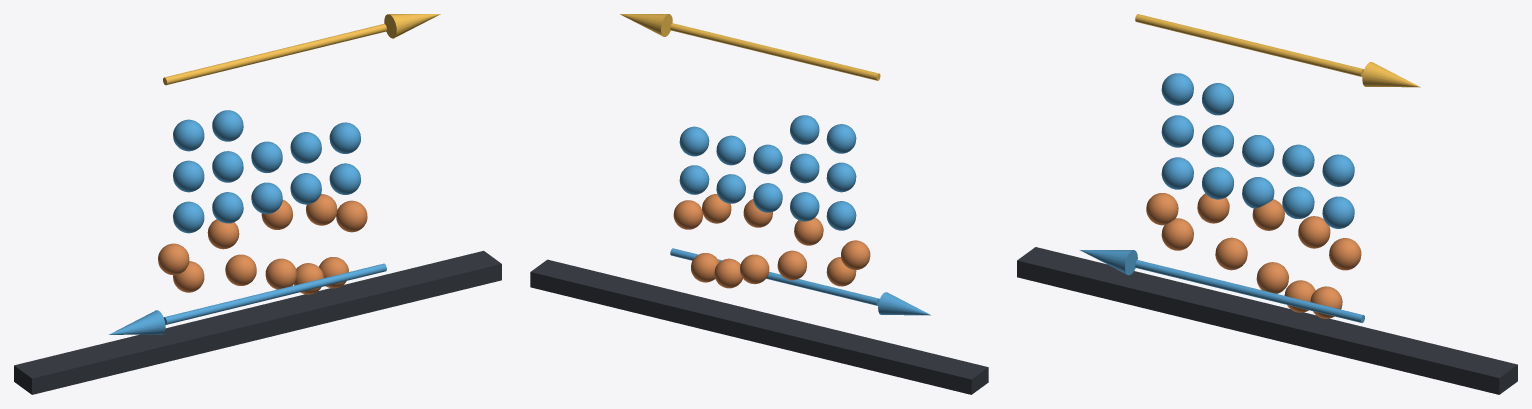
File: chem-states-melting-freezing.glb
3 renders of one model, left to right at view 1: azimuth 30°, elevation 25°; view 2: azimuth 150°, elevation 25°; view 3: azimuth 330°, elevation 25°, orthographic. The views are drawn at different scales.
Visible parts, largest first — view 1: states-lab-bench, heat-melting-forward-shaft, cooling-freezing-back-shaft, solid-side-ordered-particle-10, solid-side-ordered-particle-5, solid-side-ordered-particle-6, solid-side-ordered-particle-11, solid-side-ordered-particle-0, solid-side-ordered-particle-1, solid-side-ordered-particle-4, solid-side-ordered-particle-7, solid-side-ordered-particle-9 (+15 smaller); view 2: states-lab-bench, heat-melting-forward-shaft, cooling-freezing-back-shaft, cooling-freezing-back-head, solid-side-ordered-particle-7, liquid-side-sliding-particle-2, solid-side-ordered-particle-2, solid-side-ordered-particle-3, solid-side-ordered-particle-5, solid-side-ordered-particle-8, solid-side-ordered-particle-9, solid-side-ordered-particle-6 (+15 smaller); view 3: states-lab-bench, cooling-freezing-back-shaft, heat-melting-forward-shaft, solid-side-ordered-particle-4, solid-side-ordered-particle-9, liquid-side-sliding-particle-9, solid-side-ordered-particle-0, solid-side-ordered-particle-10, solid-side-ordered-particle-5, solid-side-ordered-particle-8, liquid-side-sliding-particle-1, solid-side-ordered-particle-7 (+15 smaller).
Boxes of the visible parts, bbox=[...] form: states-lab-bench: bbox=[14, 250, 501, 394]; heat-melting-forward-shaft: bbox=[163, 24, 386, 85]; cooling-freezing-back-shaft: bbox=[163, 263, 386, 324]; solid-side-ordered-particle-10: bbox=[173, 119, 204, 151]; solid-side-ordered-particle-5: bbox=[173, 160, 204, 192]; solid-side-ordered-particle-6: bbox=[212, 151, 243, 182]; solid-side-ordered-particle-11: bbox=[212, 110, 243, 141]; solid-side-ordered-particle-0: bbox=[173, 201, 204, 233]; solid-side-ordered-particle-1: bbox=[212, 192, 243, 223]; solid-side-ordered-particle-4: bbox=[329, 163, 360, 194]; solid-side-ordered-particle-7: bbox=[251, 141, 282, 173]; solid-side-ordered-particle-9: bbox=[329, 122, 360, 153]; states-lab-bench: bbox=[530, 259, 988, 394]; heat-melting-forward-shaft: bbox=[670, 23, 880, 80]; cooling-freezing-back-shaft: bbox=[670, 248, 879, 305]; cooling-freezing-back-head: bbox=[878, 292, 930, 315]; solid-side-ordered-particle-7: bbox=[753, 144, 782, 174]; liquid-side-sliding-particle-2: bbox=[740, 254, 769, 284]; solid-side-ordered-particle-2: bbox=[753, 183, 782, 212]; solid-side-ordered-particle-3: bbox=[716, 174, 745, 203]; solid-side-ordered-particle-5: bbox=[826, 162, 856, 192]; solid-side-ordered-particle-8: bbox=[716, 135, 745, 165]; solid-side-ordered-particle-9: bbox=[679, 126, 709, 156]; solid-side-ordered-particle-6: bbox=[790, 153, 819, 183]; states-lab-bench: bbox=[1017, 247, 1517, 394]; cooling-freezing-back-shaft: bbox=[1135, 260, 1364, 322]; heat-melting-forward-shaft: bbox=[1135, 14, 1363, 76]; solid-side-ordered-particle-4: bbox=[1322, 196, 1354, 228]; solid-side-ordered-particle-9: bbox=[1322, 154, 1354, 186]; liquid-side-sliding-particle-9: bbox=[1329, 238, 1361, 270]; solid-side-ordered-particle-0: bbox=[1161, 157, 1193, 189]; solid-side-ordered-particle-10: bbox=[1161, 73, 1193, 105]; solid-side-ordered-particle-5: bbox=[1161, 115, 1193, 147]; solid-side-ordered-particle-8: bbox=[1282, 144, 1314, 176]; liquid-side-sliding-particle-1: bbox=[1215, 237, 1247, 270]; solid-side-ordered-particle-7: bbox=[1242, 135, 1274, 167].
Size of what is drawn, in the model's own units: 2.4 by 1.46 by 0.2858.
